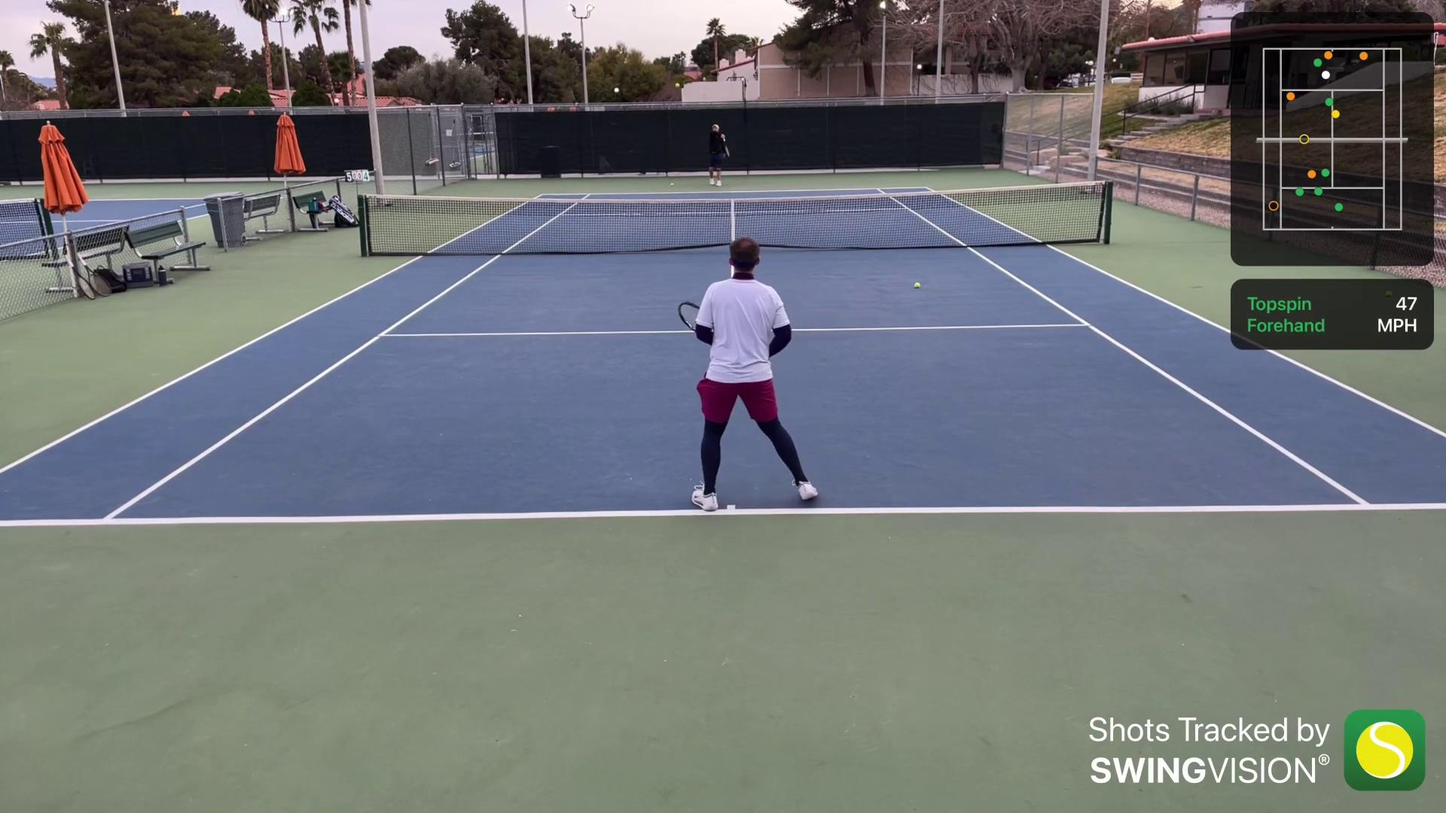ball: (671, 82, 683, 90), (911, 283, 922, 289), (666, 180, 675, 187)
